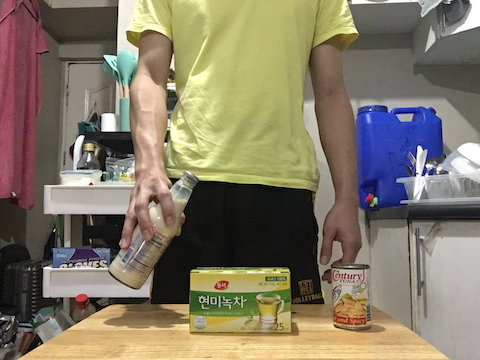bottle: (112, 169, 205, 293)
box: (187, 264, 295, 336)
can: (331, 261, 373, 332)
grab: (114, 176, 179, 251)
